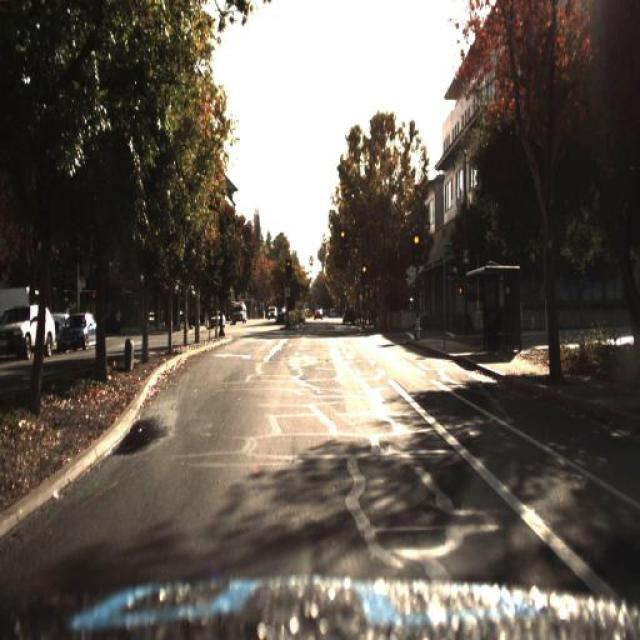car: (0, 300, 56, 368), (0, 302, 58, 359), (58, 304, 104, 354), (63, 310, 101, 351), (230, 298, 248, 324), (262, 297, 278, 325), (206, 310, 227, 330), (209, 310, 225, 330), (340, 308, 356, 328), (264, 301, 277, 323)
trafficLight-Green: (334, 227, 346, 252)
trafficLight-RedLeft: (411, 234, 421, 264), (283, 254, 293, 278), (360, 258, 370, 282)
trafficLight-Yellow: (283, 257, 296, 283)
trafficLight-YellowLeft: (411, 228, 422, 247), (358, 263, 368, 275)
